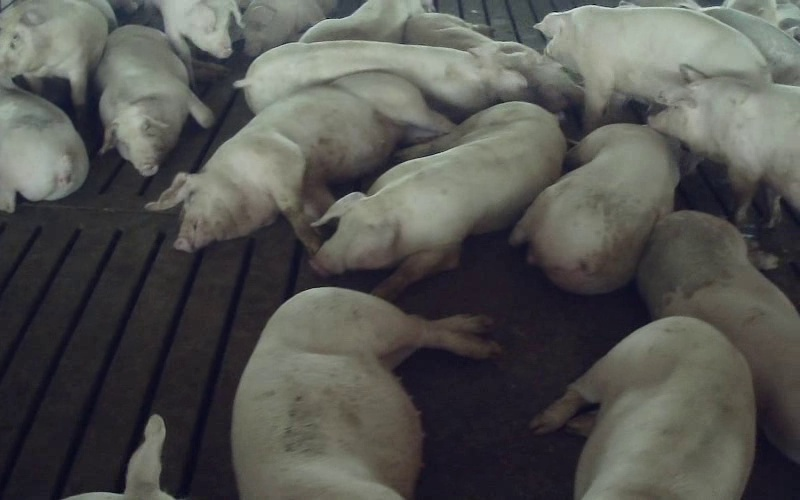pig: (232, 288, 498, 499), (147, 72, 452, 252), (312, 102, 565, 298), (531, 317, 755, 499), (637, 211, 799, 462), (535, 6, 769, 130), (510, 124, 678, 294), (649, 67, 799, 224), (235, 40, 527, 119), (403, 12, 582, 111), (96, 25, 213, 175), (157, 0, 240, 75), (299, 0, 425, 42), (242, 0, 335, 56)
